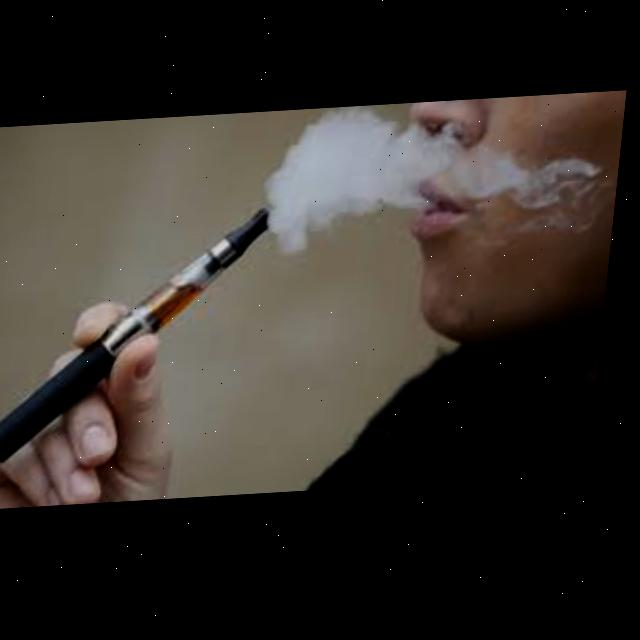vape: (0, 209, 281, 464)
